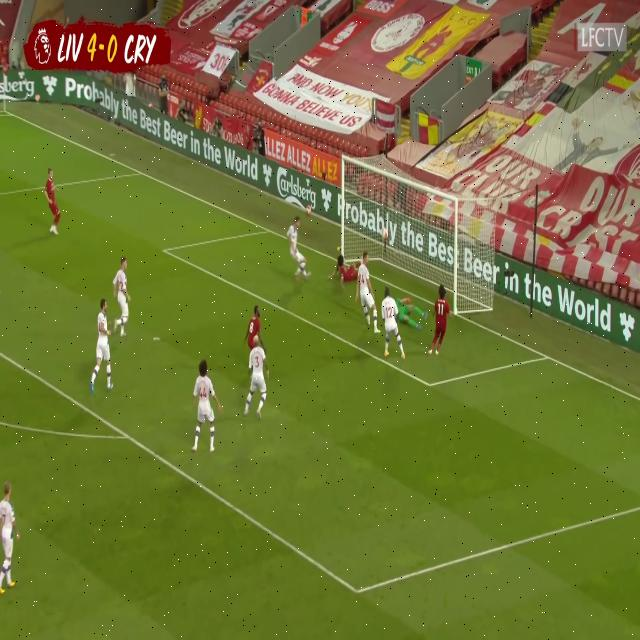Ball: (380, 225, 390, 246)
GoalKeeper: (397, 292, 428, 336)
TEAM 1: (42, 161, 68, 245), (433, 278, 453, 360), (242, 300, 262, 360), (331, 249, 361, 286)
TEAM 2: (192, 358, 219, 459), (89, 297, 116, 397), (284, 212, 314, 292), (2, 479, 22, 595), (355, 247, 380, 337), (383, 282, 405, 368), (113, 255, 135, 341), (246, 337, 268, 415)
